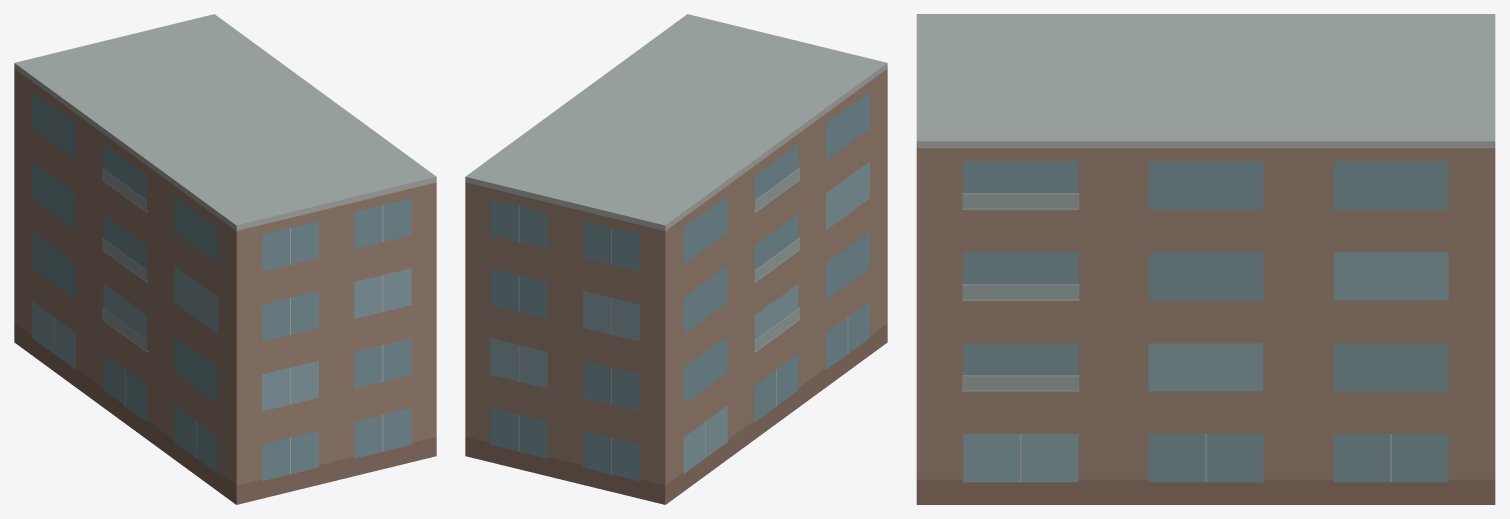
The model's file is residential-544b7bf6-8fa1-4eb7-8ee1-58cb8d0108c9.glb.
3 views of the same model, side by side, from view 1: azimuth 30°, elevation 25°; view 2: azimuth 150°, elevation 25°; view 3: azimuth 270°, elevation 25° (orthographic). The views are drawn at different scales.
Visible parts, largest first — view 1: residential-544b7bf6-8fa1-4eb7-8ee1-58cb8d0108c9.tmp; view 2: residential-544b7bf6-8fa1-4eb7-8ee1-58cb8d0108c9.tmp; view 3: residential-544b7bf6-8fa1-4eb7-8ee1-58cb8d0108c9.tmp.
Part boxes in pixels (x1,y1,x2,y2): residential-544b7bf6-8fa1-4eb7-8ee1-58cb8d0108c9.tmp: [14, 14, 436, 504]; residential-544b7bf6-8fa1-4eb7-8ee1-58cb8d0108c9.tmp: [465, 14, 887, 504]; residential-544b7bf6-8fa1-4eb7-8ee1-58cb8d0108c9.tmp: [916, 14, 1495, 504].
Size of the model in its own units: 9.23 by 12.2 by 17.61.
